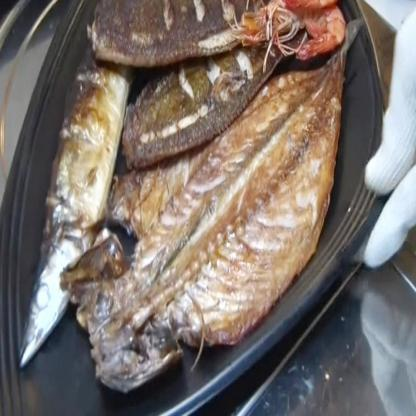Peixe: (5, 0, 351, 414)
